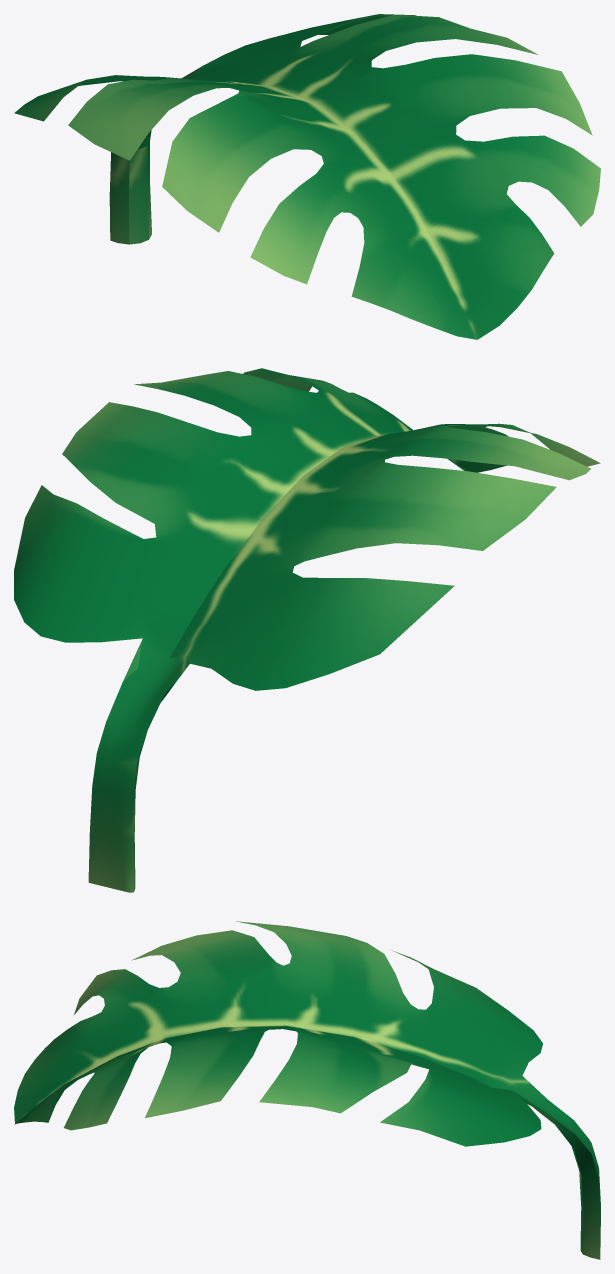
File: MODEL_Plant.FBX
The picture shows the model from 3 angles, top to bottom: view 1: azimuth 30°, elevation 25°; view 2: azimuth 150°, elevation 25°; view 3: azimuth 270°, elevation 25°; orthographic projection. The views are drawn at different scales.
Visible parts, largest first — view 1: MESH_Plant; view 2: MESH_Plant; view 3: MESH_Plant.
Boxes of the visible parts, <box> form: MESH_Plant: <box>14,14,600,339</box>; MESH_Plant: <box>14,368,600,892</box>; MESH_Plant: <box>14,921,600,1259</box>.
Bounding box in the file's own units: 70.68 × 48.46 × 101.
1 material, 1 textured.
